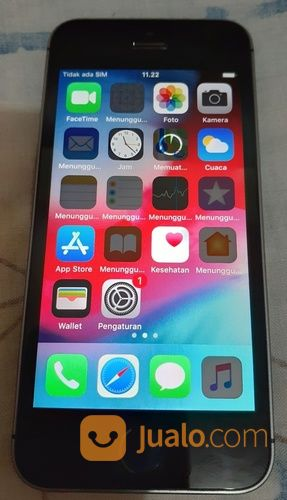Handphone: (5, 16, 280, 497)
